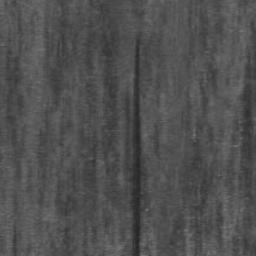Scratches: (131, 38, 141, 256)
